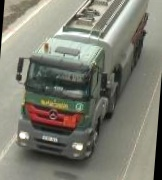truck: (11, 0, 150, 165)
